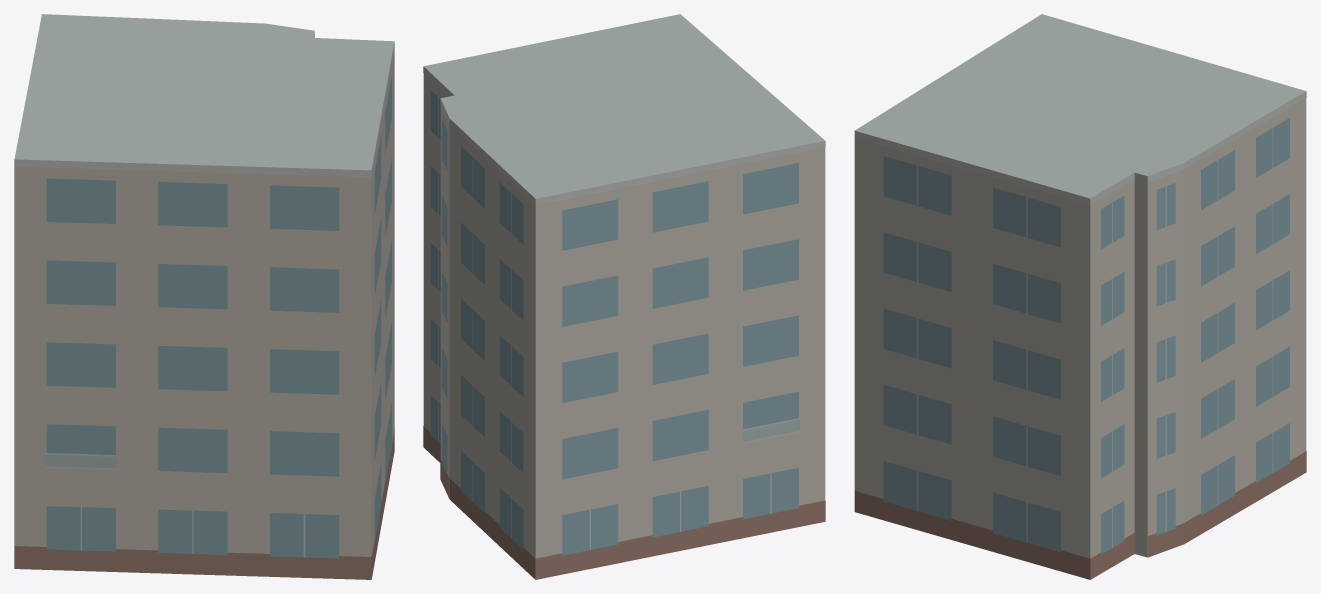
Rendered from survey-upis-32946543.glb.
3 views of the same model, side by side, from view 1: azimuth 30°, elevation 25°; view 2: azimuth 150°, elevation 25°; view 3: azimuth 270°, elevation 25° (orthographic). The views are drawn at different scales.
Parts seen in each view (by area): view 1: survey-upis-32946543.tmp; view 2: survey-upis-32946543.tmp; view 3: survey-upis-32946543.tmp.
Part boxes in pixels (box(x1,y1,x2,y2)): survey-upis-32946543.tmp: box(14, 14, 394, 579); survey-upis-32946543.tmp: box(423, 14, 825, 579); survey-upis-32946543.tmp: box(854, 14, 1306, 579).
Size of the model in its own units: 14.75 by 14.2 by 15.26.
